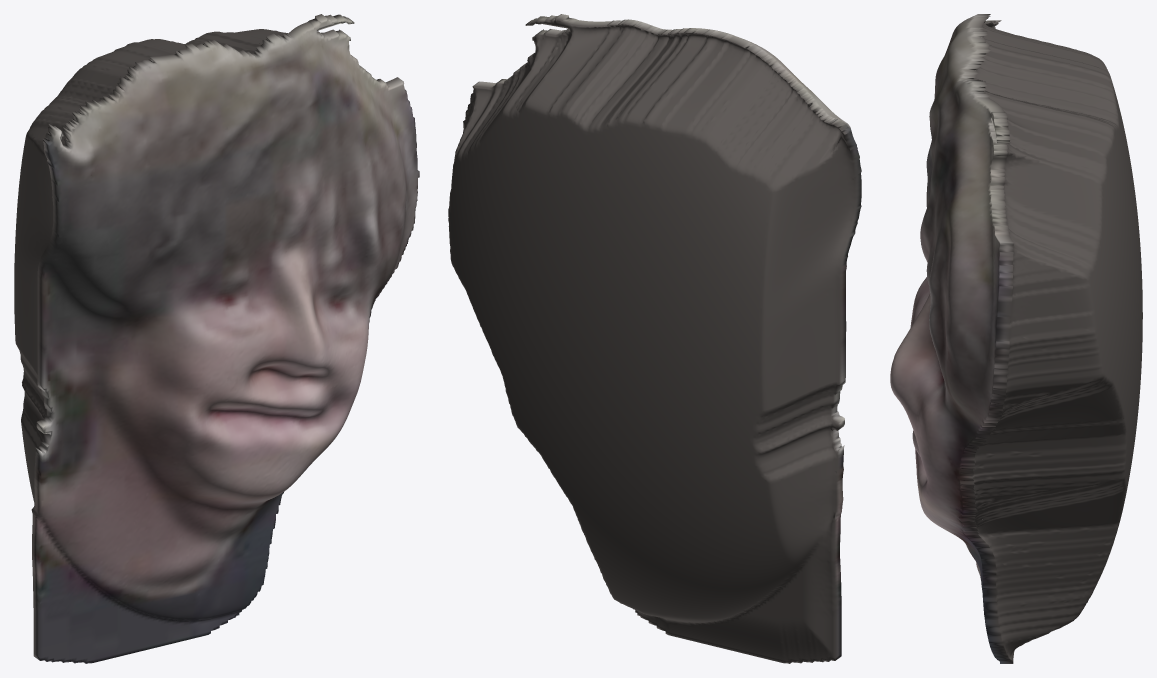
File: portrait_relief.glb
3 renders of one model, left to right at view 1: azimuth 30°, elevation 25°; view 2: azimuth 150°, elevation 25°; view 3: azimuth 270°, elevation 25°, orthographic. The views are drawn at different scales.
Parts seen in each view (by area): view 1: supplied_photo_relief; view 2: supplied_photo_relief; view 3: supplied_photo_relief.
Boxes of the visible parts, left/top/right/bottom form: supplied_photo_relief: left=14, top=14, right=419, bottom=663; supplied_photo_relief: left=448, top=14, right=861, bottom=663; supplied_photo_relief: left=890, top=14, right=1142, bottom=663.
Size of the model in its own units: 0.2029 by 0.3077 by 0.1146.
